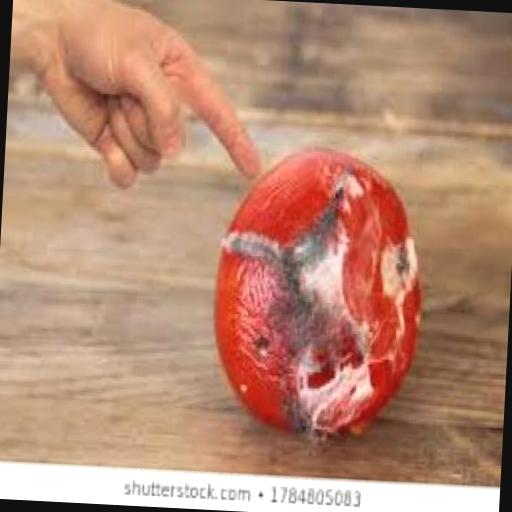biodegradable: (207, 141, 429, 448)
